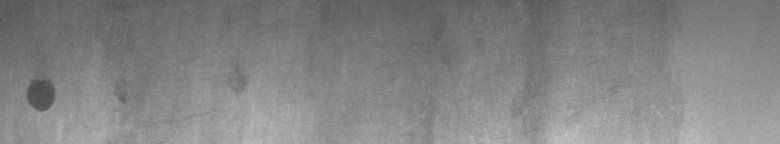fi: (21, 72, 130, 130)
